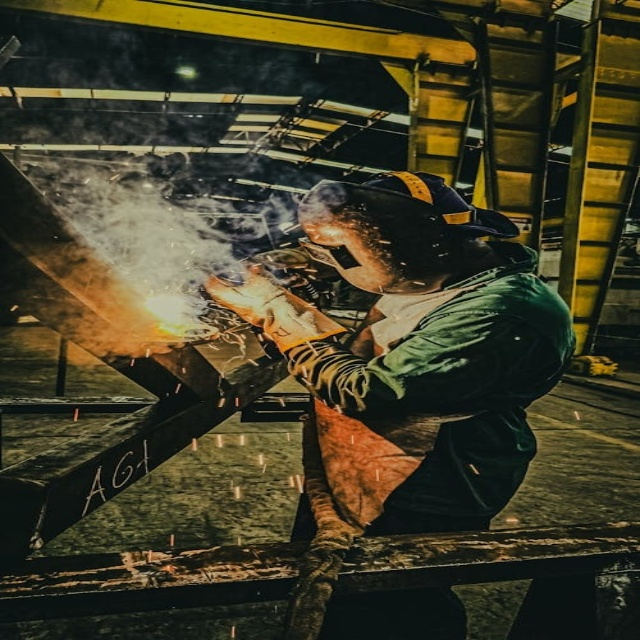Guantes: (188, 245, 352, 357)
